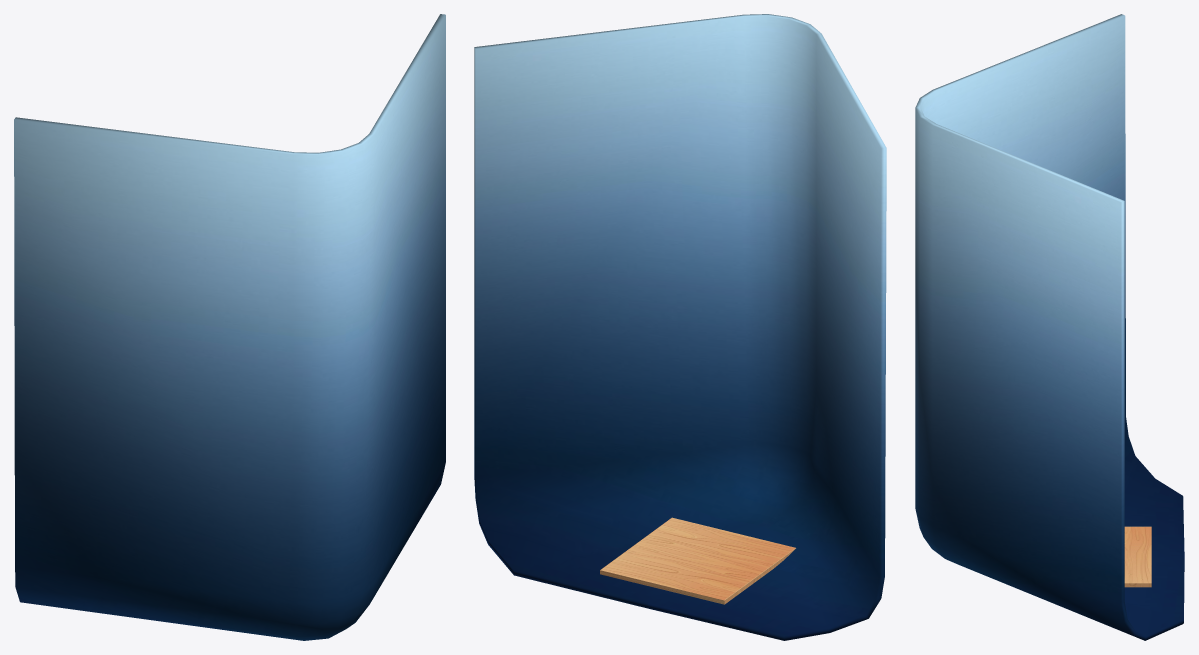
The model's file is Color Tower_San.fbx.
3 renders of one model, left to right at view 1: azimuth 30°, elevation 25°; view 2: azimuth 150°, elevation 25°; view 3: azimuth 270°, elevation 25°, orthographic. The views are drawn at different scales.
Visible parts, largest first — view 1: Bg; view 2: Bg, Floor; view 3: Bg, Floor.
Boxes of the visible parts, x1=… form: Bg: x1=14, y1=14, x2=445, y2=640; Bg: x1=474, y1=14, x2=886, y2=640; Floor: x1=600, y1=517, x2=795, y2=604; Bg: x1=915, y1=14, x2=1184, y2=640; Floor: x1=1124, y1=526, x2=1151, y2=587.
Size of the model in its own units: 108 by 65.09 by 121.
Materials: 2 (2 with a texture image).
